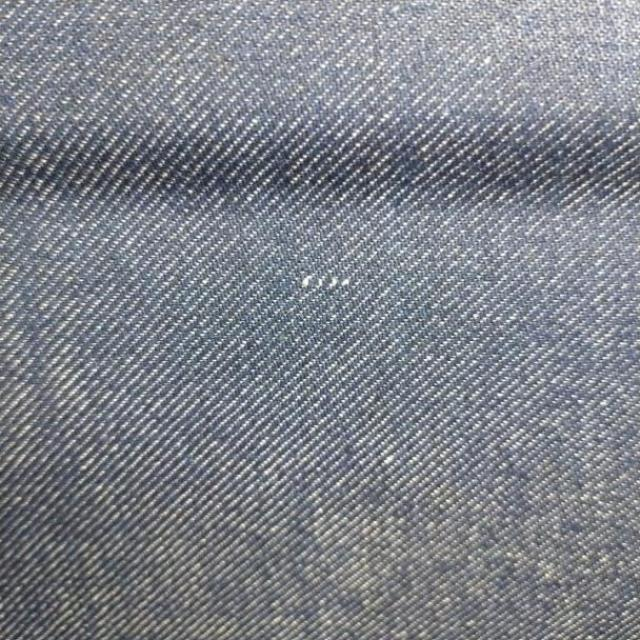Knot: (300, 272, 352, 290)
